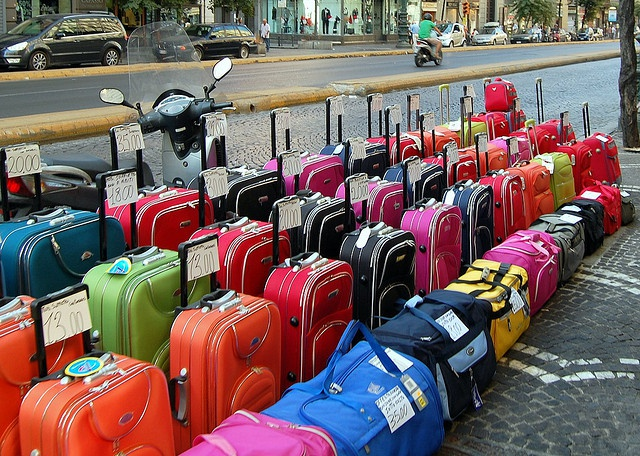non-vehicle: (98, 57, 234, 194), (415, 38, 443, 66)
